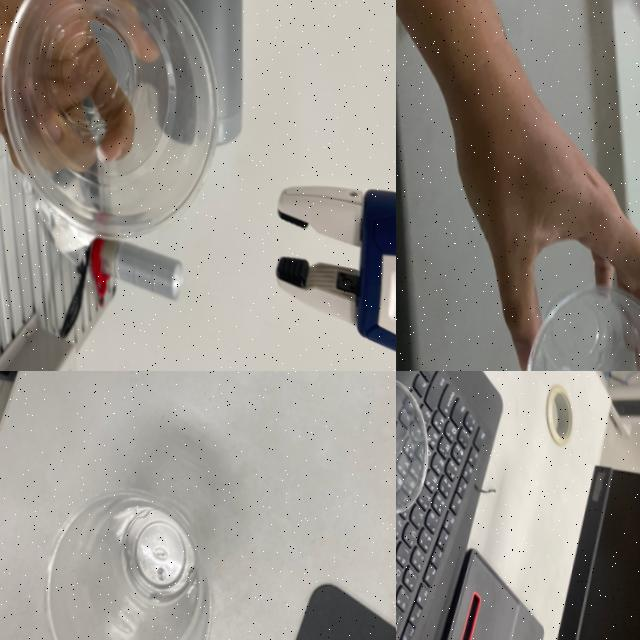glass: (0, 0, 237, 261), (22, 485, 215, 640), (502, 277, 640, 371), (396, 372, 435, 520)
